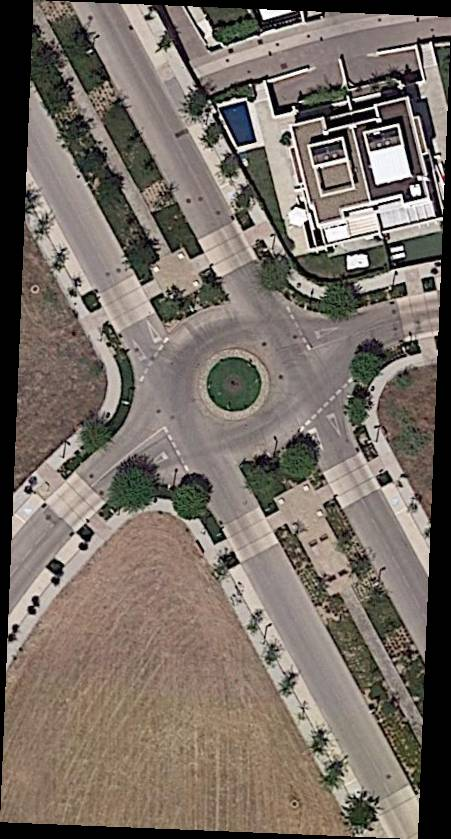roundabout: (119, 270, 340, 526)
swimming pool: (218, 101, 260, 150)
